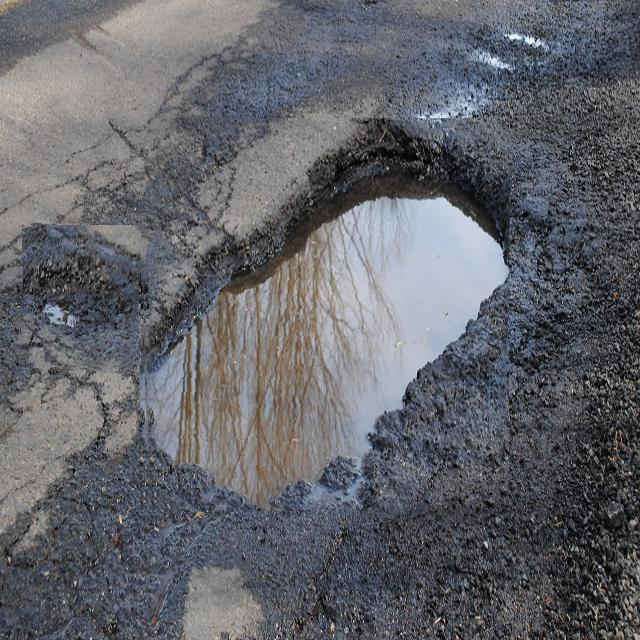Pothole: (137, 118, 509, 519), (18, 225, 141, 372)
